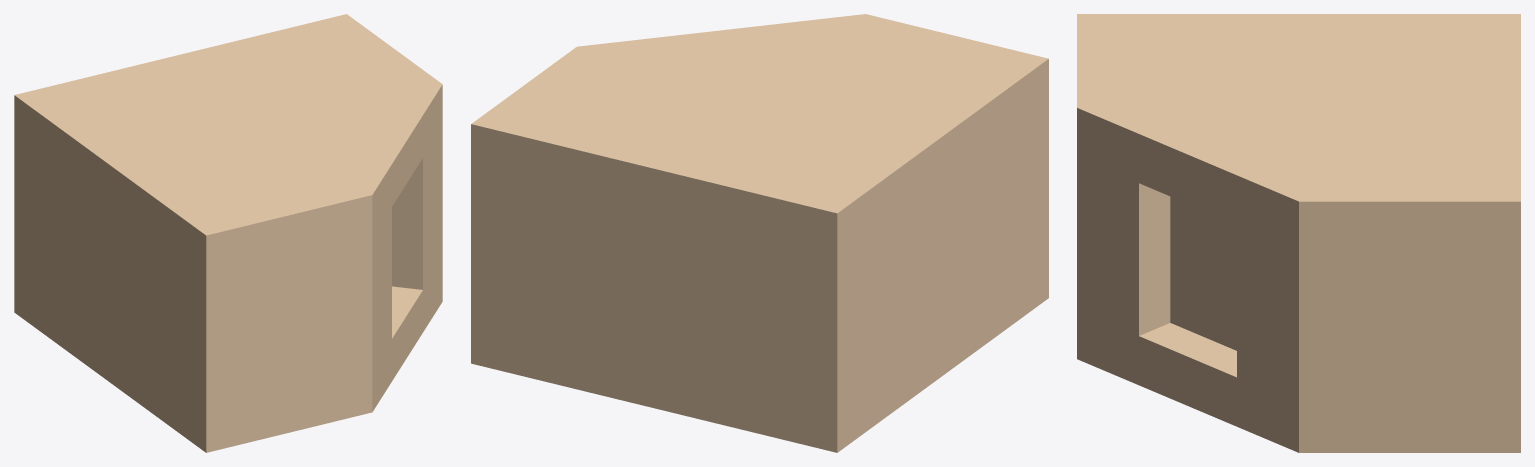
File: building-corner-window.obj
3 renders of one model, left to right at view 1: azimuth 30°, elevation 25°; view 2: azimuth 150°, elevation 25°; view 3: azimuth 270°, elevation 25°, orthographic. The views are drawn at different scales.
Bounding box in the file's own units: 1 × 0.625 × 1.
